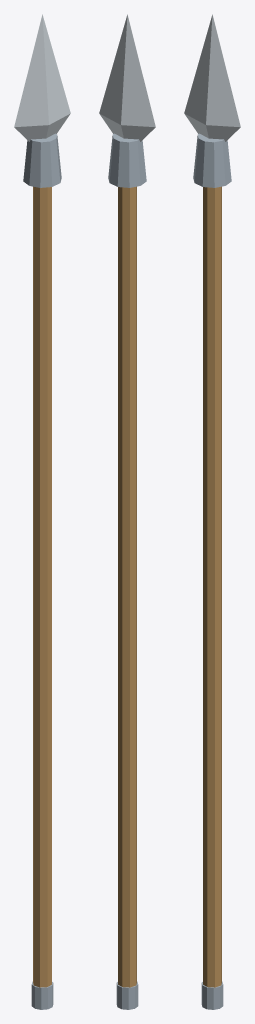
The model's file is weapon_spear.glb.
The picture shows the model from 3 angles, left to right: view 1: azimuth 30°, elevation 25°; view 2: azimuth 150°, elevation 25°; view 3: azimuth 330°, elevation 25°; orthographic projection.
Parts seen in each view (by area): view 1: weapon_spear; view 2: weapon_spear; view 3: weapon_spear.
Boxes of the visible parts, x1,y1,x2,y2 form: weapon_spear: [14, 14, 70, 1009]; weapon_spear: [99, 14, 155, 1009]; weapon_spear: [184, 14, 240, 1009].
Size of the model in its own units: 0.19 by 3.17 by 0.114.
